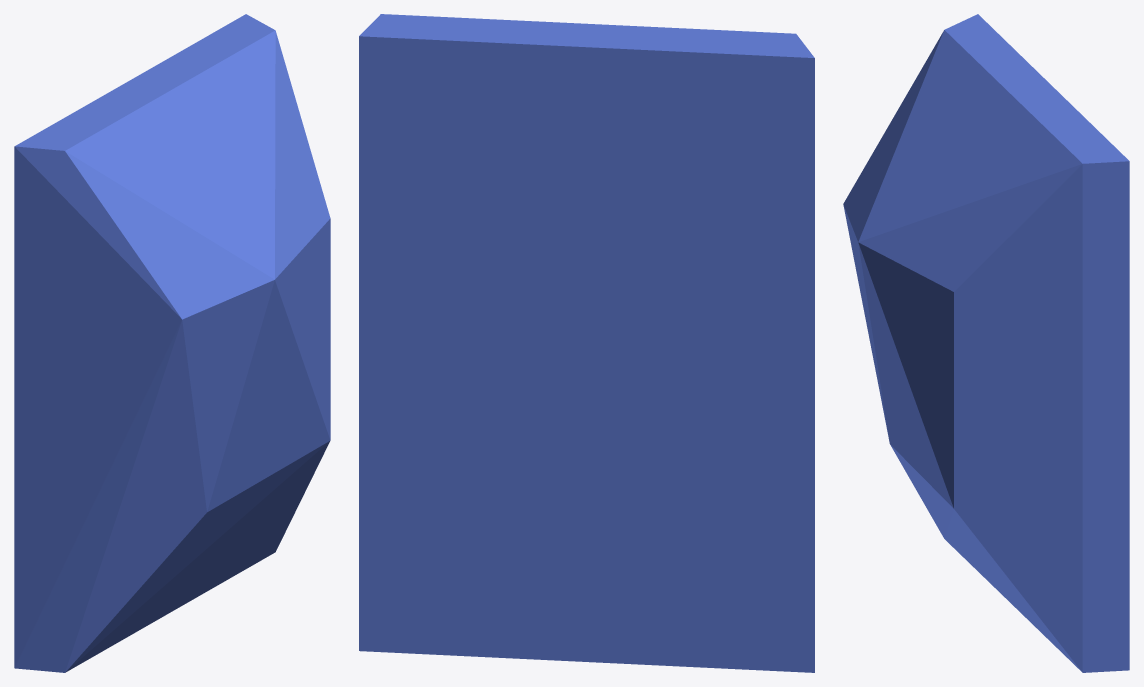
Rendered from Cliff_Wall_02_Collider_01.FBX.
3 renders of one model, left to right at view 1: azimuth 30°, elevation 25°; view 2: azimuth 150°, elevation 25°; view 3: azimuth 270°, elevation 25°, orthographic. The views are drawn at different scales.
Parts seen in each view (by area): view 1: COLLDIER11; view 2: COLLDIER11; view 3: COLLDIER11.
Part boxes in pixels (x1,y1,x2,y2): COLLDIER11: (14, 14, 330, 672); COLLDIER11: (359, 14, 814, 672); COLLDIER11: (843, 14, 1129, 672).
Size of what is drawn, in the model's own units: 125 by 198 by 101.
